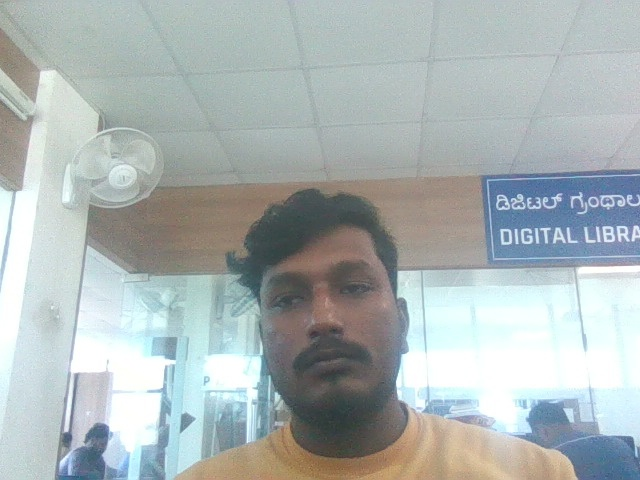real: (243, 174, 420, 425)
